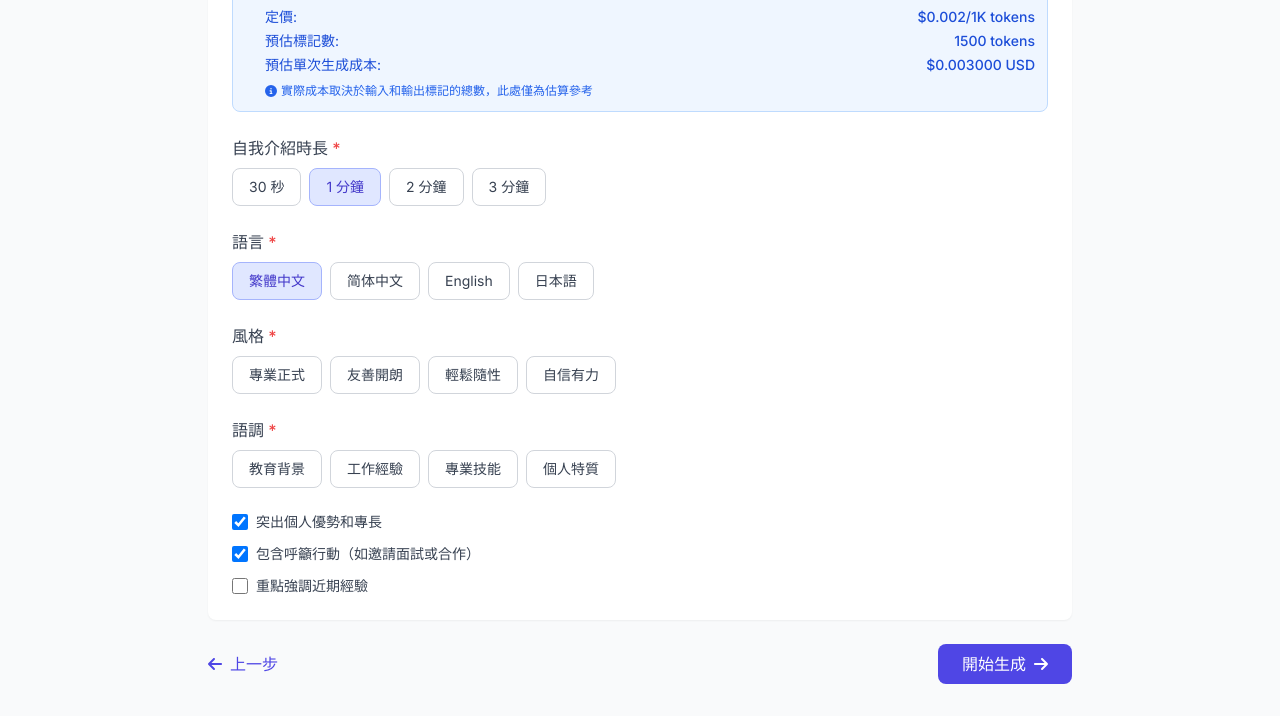
Scenario: Form Page Validation › should show validation error when some generation settings are missing
The image size is (1280, 716).
(page scrolled)
Note: Find the generate button and click it
What coordinates should you click on to do the following:
click the button "開始生成"
I would click on:
 (1005, 664)
Its box is [938, 644, 1072, 684].
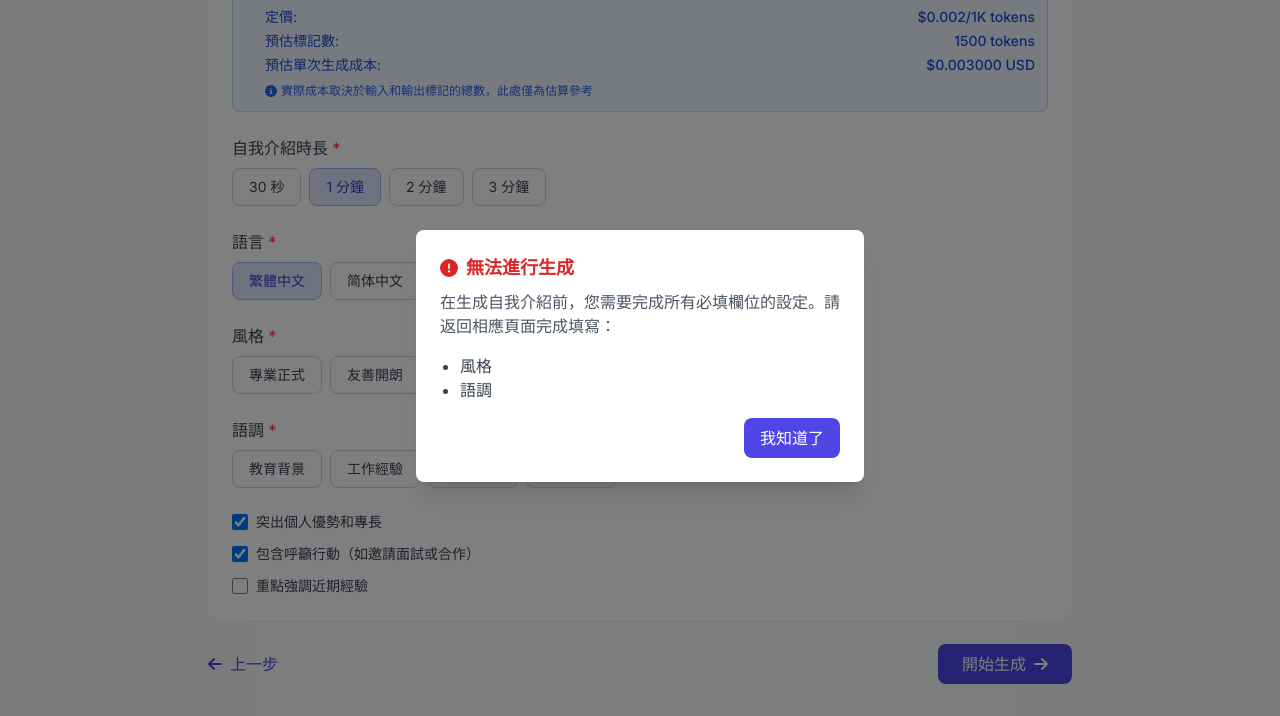
Check: the heading "無法進行生成" is shown, box [440, 257, 574, 278]
Check: the list item "風格" is shown, box [460, 356, 492, 376]
Check: the list item "語調" is shown, box [460, 380, 492, 400]
